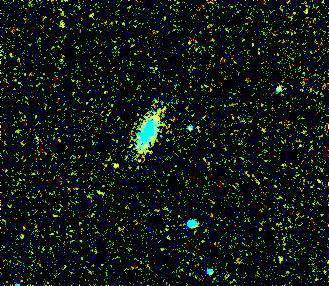star: (96, 152, 126, 182)
